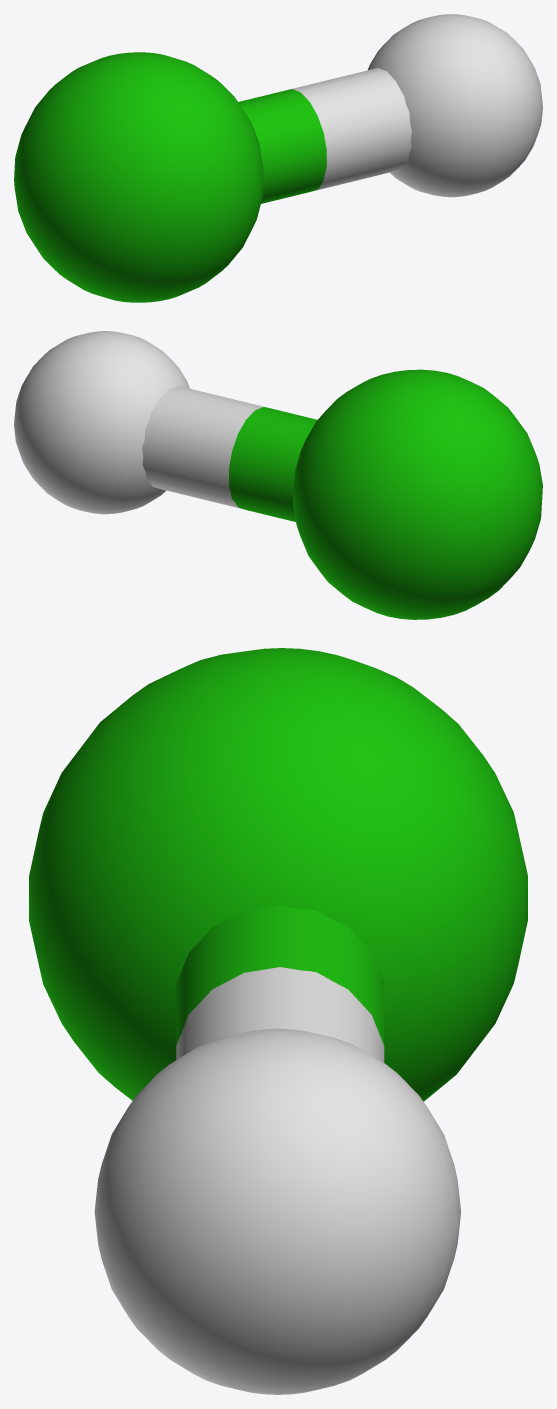
The model's file is uploads_files_2040625_HydrochloricAcid.FBX.
3 renders of one model, top to bottom at view 1: azimuth 30°, elevation 25°; view 2: azimuth 150°, elevation 25°; view 3: azimuth 270°, elevation 25°, orthographic. The views are drawn at different scales.
Visible parts, largest first — view 1: Sphere003, Sphere004, Cylinder004, Cylinder003; view 2: Sphere003, Sphere004, Cylinder004, Cylinder003; view 3: Sphere003, Sphere004, Cylinder003, Cylinder004.
Part boxes in pixels (x1,y1,x2,y2): Sphere003: (14,52,263,302); Sphere004: (368,14,542,197); Cylinder004: (292,68,411,191); Cylinder003: (238,89,326,203); Sphere003: (293,369,542,619); Sphere004: (14,331,189,514); Cylinder004: (142,386,263,509); Cylinder003: (229,407,317,521); Sphere003: (29,648,527,1101); Sphere004: (94,1028,460,1394); Cylinder003: (176,905,384,1045); Cylinder004: (176,967,384,1062).
Bounding box in the file's own units: 51.02 × 22.04 × 22.04.
